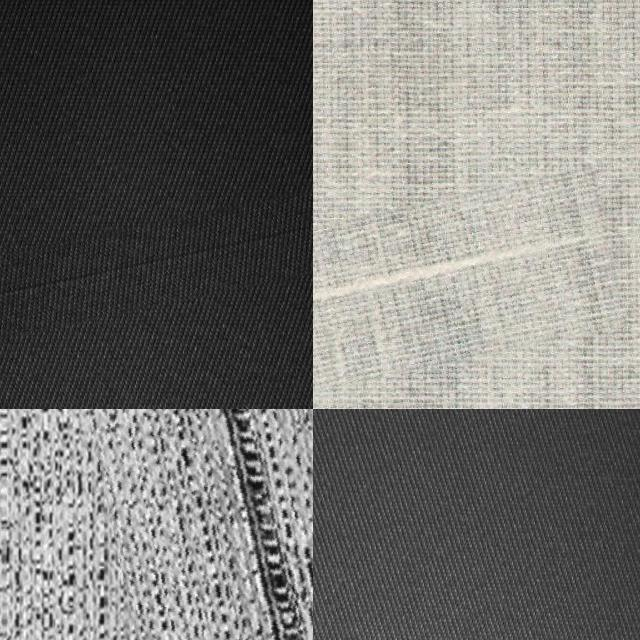stains: (313, 189, 623, 399), (84, 409, 313, 640), (0, 196, 313, 345)
